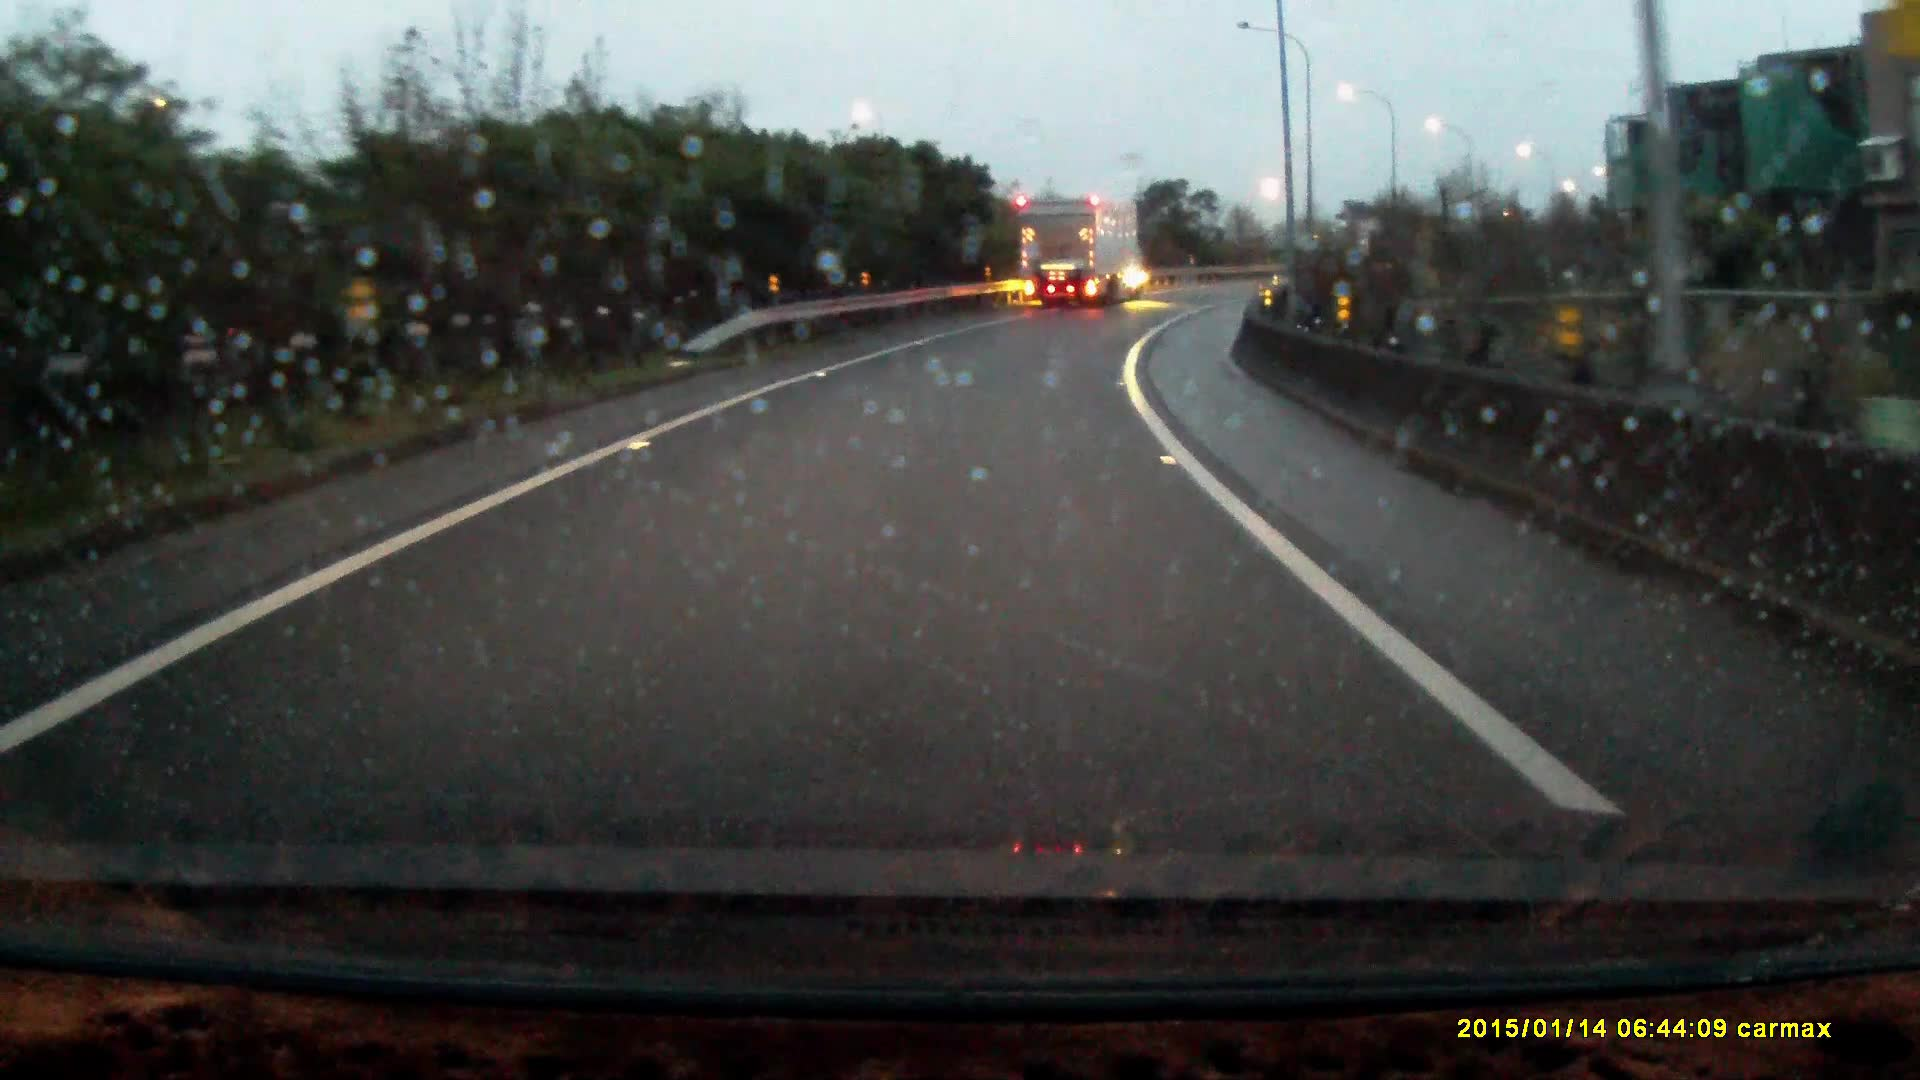vehicle: (1021, 191, 1153, 305)
